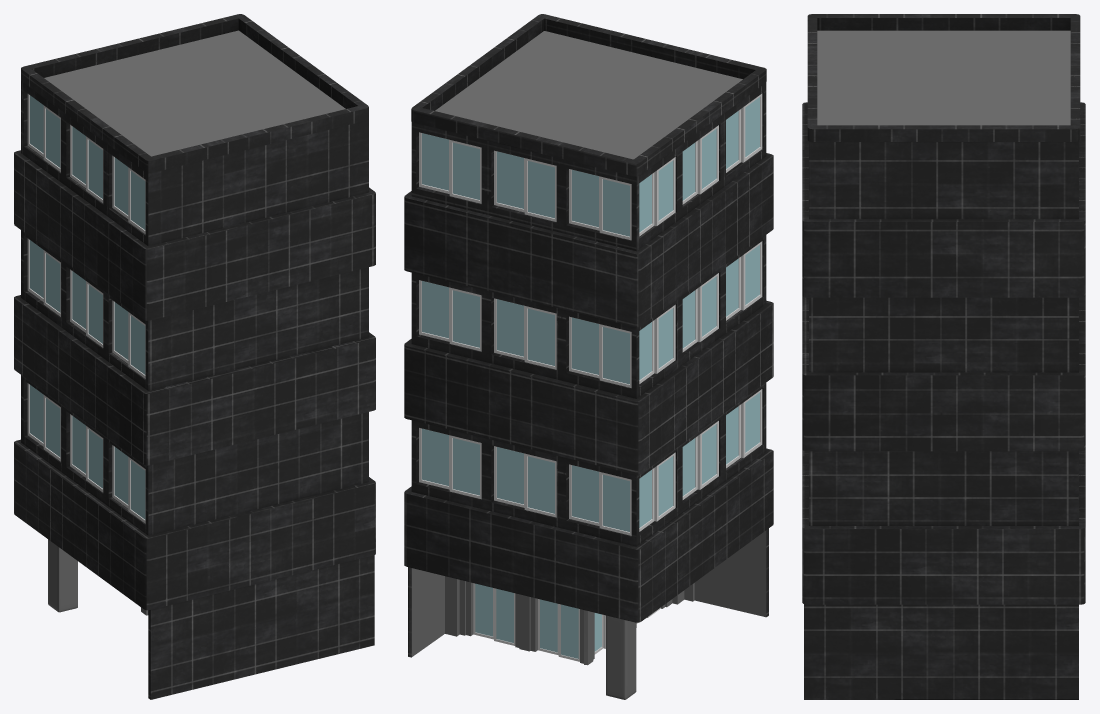
File: building6.fbx
The picture shows the model from 3 angles, left to right: view 1: azimuth 30°, elevation 25°; view 2: azimuth 150°, elevation 25°; view 3: azimuth 270°, elevation 25°; orthographic projection. The views are drawn at different scales.
Visible parts, largest first — view 1: building6; view 2: building6; view 3: building6.
Part boxes in pixels (x1=…): building6: x1=14, y1=14, x2=375, y2=699; building6: x1=404, y1=14, x2=773, y2=699; building6: x1=802, y1=14, x2=1085, y2=699.
Size of the model in its own units: 901 by 2001 by 901.
4 materials, 1 textured.
